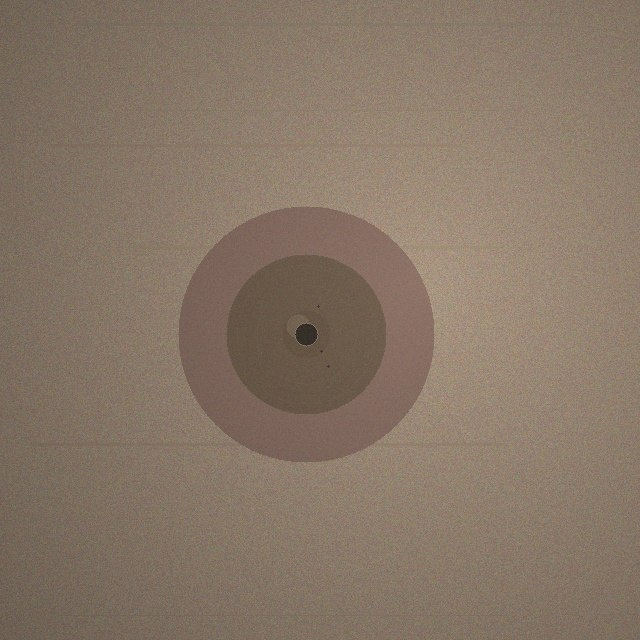shrinkage: (178, 206, 434, 462)
